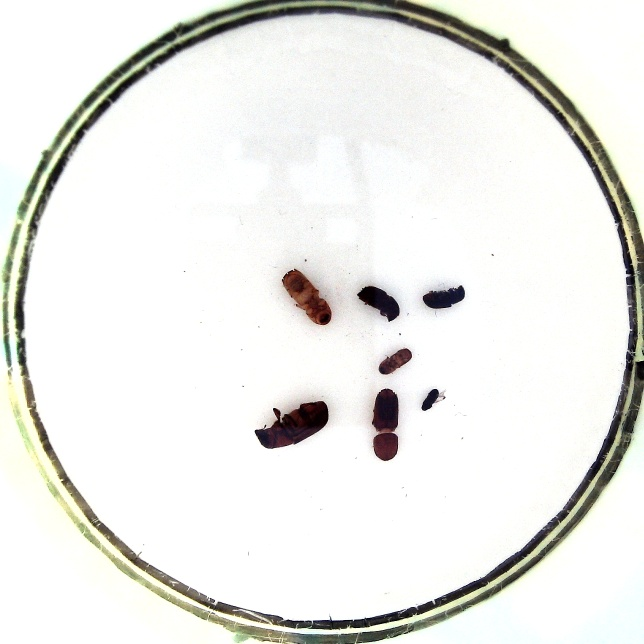acuminatus: (377, 347, 412, 376)
armandi: (422, 284, 469, 310)
boerner: (280, 266, 332, 327), (370, 385, 403, 462)
coleoptera: (419, 386, 447, 412)
leconte: (254, 398, 331, 449)
linnaeus: (356, 284, 403, 321)
